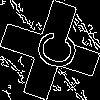C: (25, 25, 80, 73)
